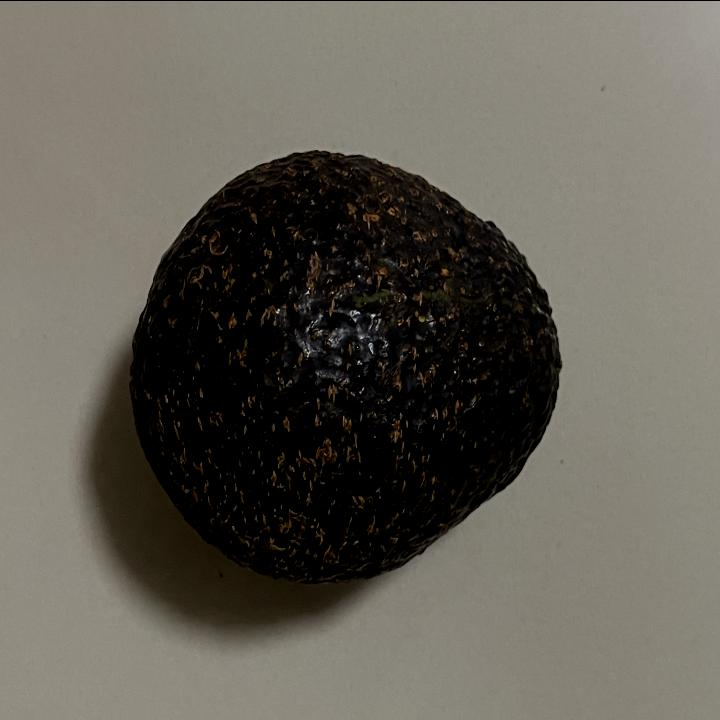Level3: (122, 138, 572, 592)
